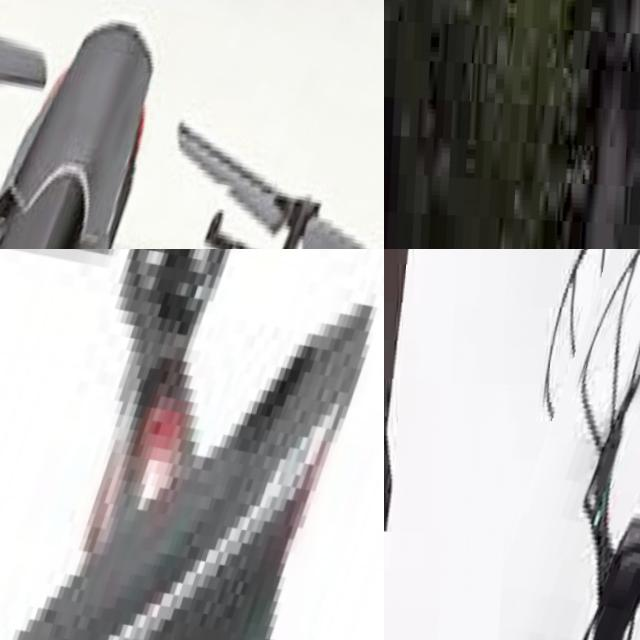0: (486, 249, 640, 640)
drone: (0, 249, 384, 640), (0, 0, 384, 249)
